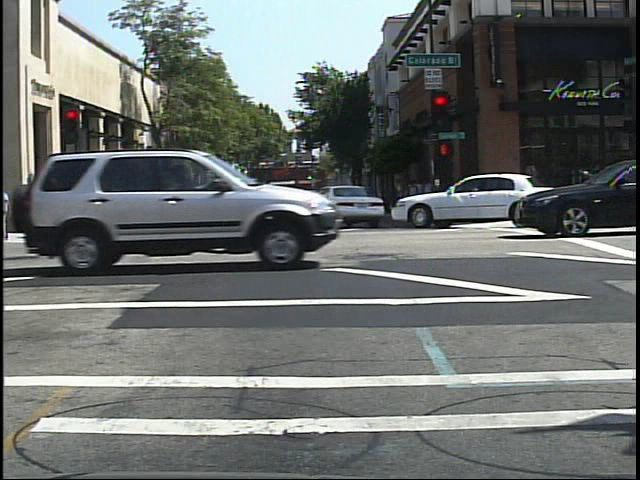person: (117, 181, 137, 222)
